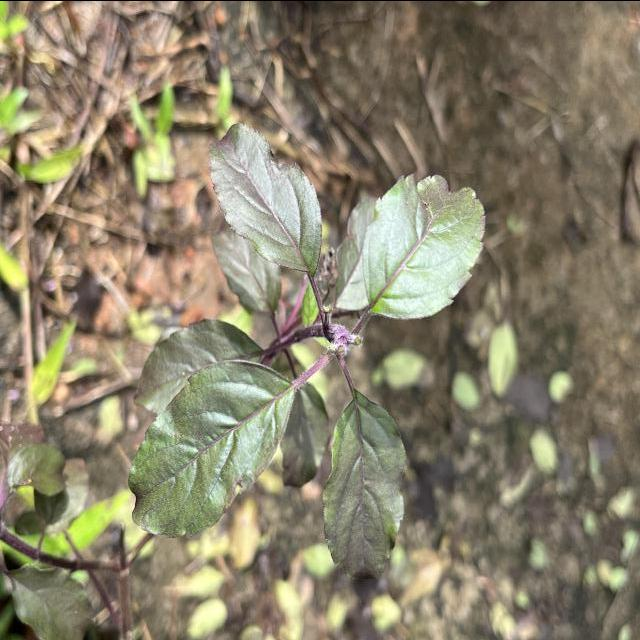Ocimum tenuiflorum: (126, 358, 294, 540), (360, 172, 487, 322), (206, 120, 324, 278), (320, 386, 410, 582)
